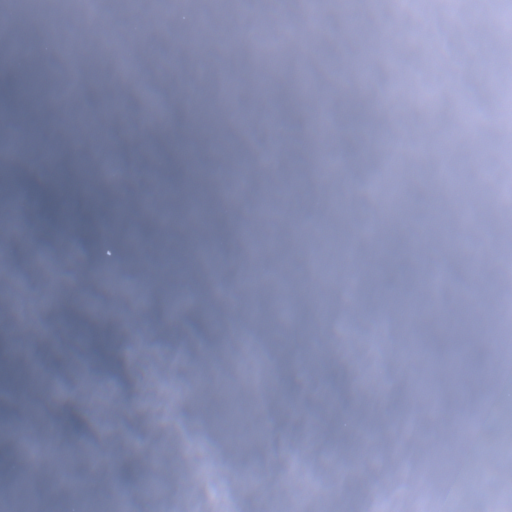Iceberg: (107, 251, 110, 254)
